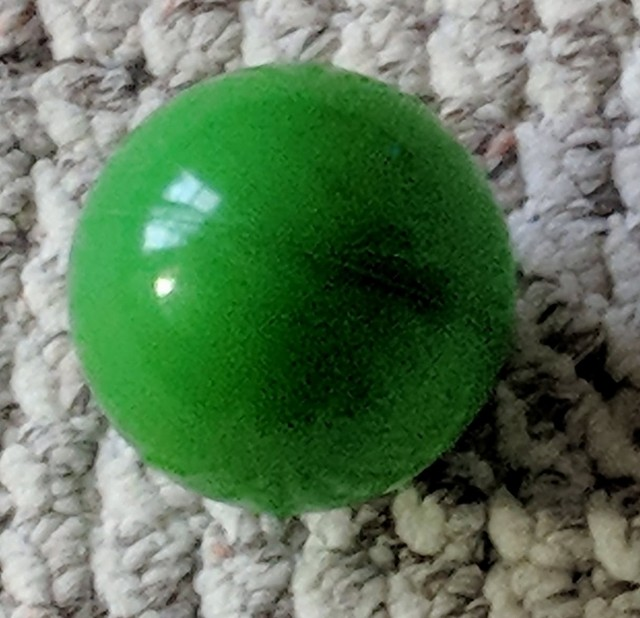Ball: (71, 60, 514, 513)
